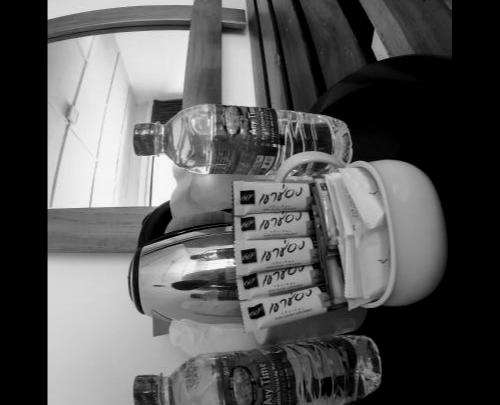bottle: (127, 324, 386, 405), (125, 100, 357, 190)
